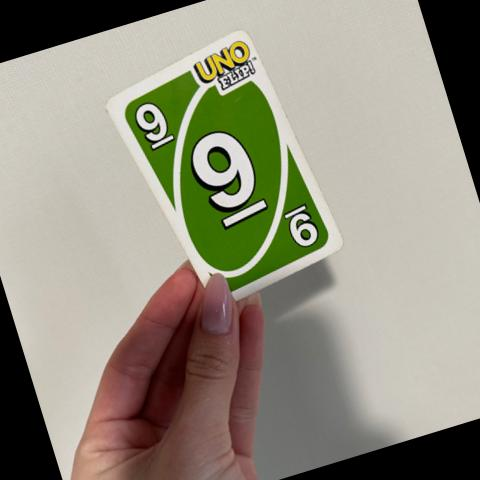lgreen-9: (120, 82, 192, 158)
